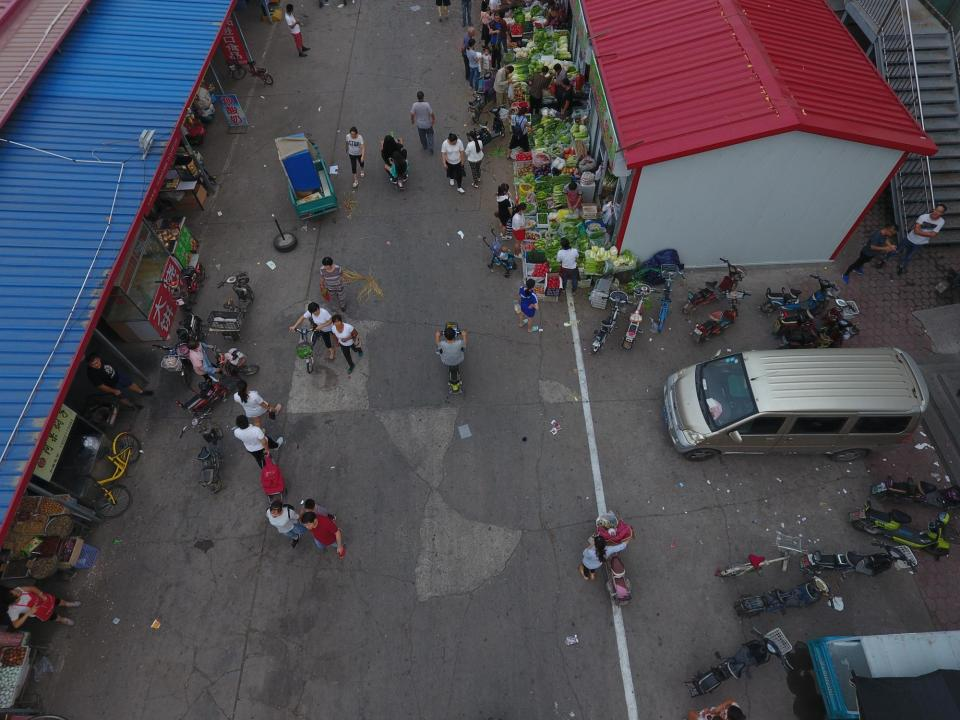van: (665, 346, 931, 458)
